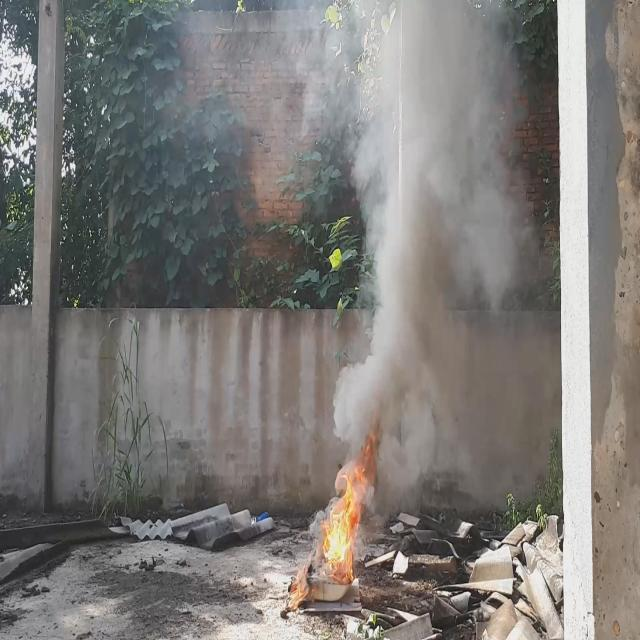Fire: (323, 428, 381, 588)
Smoke: (285, 0, 527, 489)
